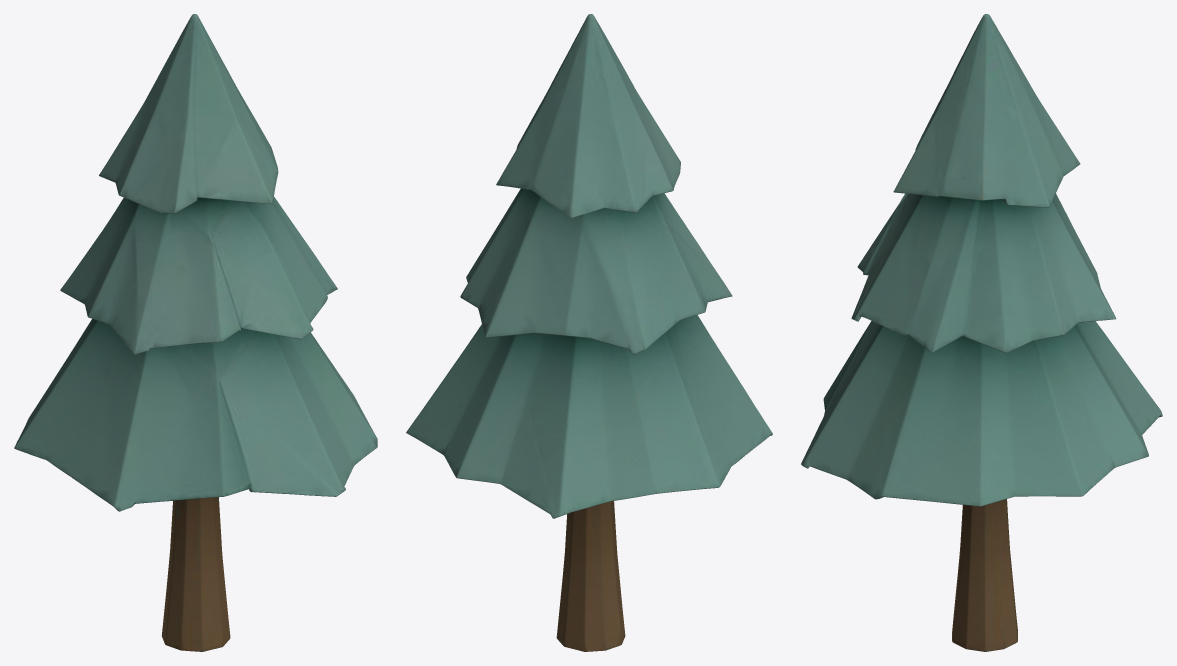
The model's file is pine_tree.glb.
3 renders of one model, left to right at view 1: azimuth 30°, elevation 25°; view 2: azimuth 150°, elevation 25°; view 3: azimuth 270°, elevation 25°, orthographic.
Parts seen in each view (by area): view 1: node_0; view 2: node_0; view 3: node_0.
Part boxes in pixels (x1,y1,x2,y2): node_0: (14,14,377,651); node_0: (406,14,772,651); node_0: (801,14,1162,651).
Bounding box in the file's own units: 0.6206 × 1.19 × 0.6276.
Materials: 1 (1 with a texture image).
